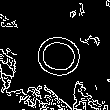O_W: (20, 29, 81, 83)
